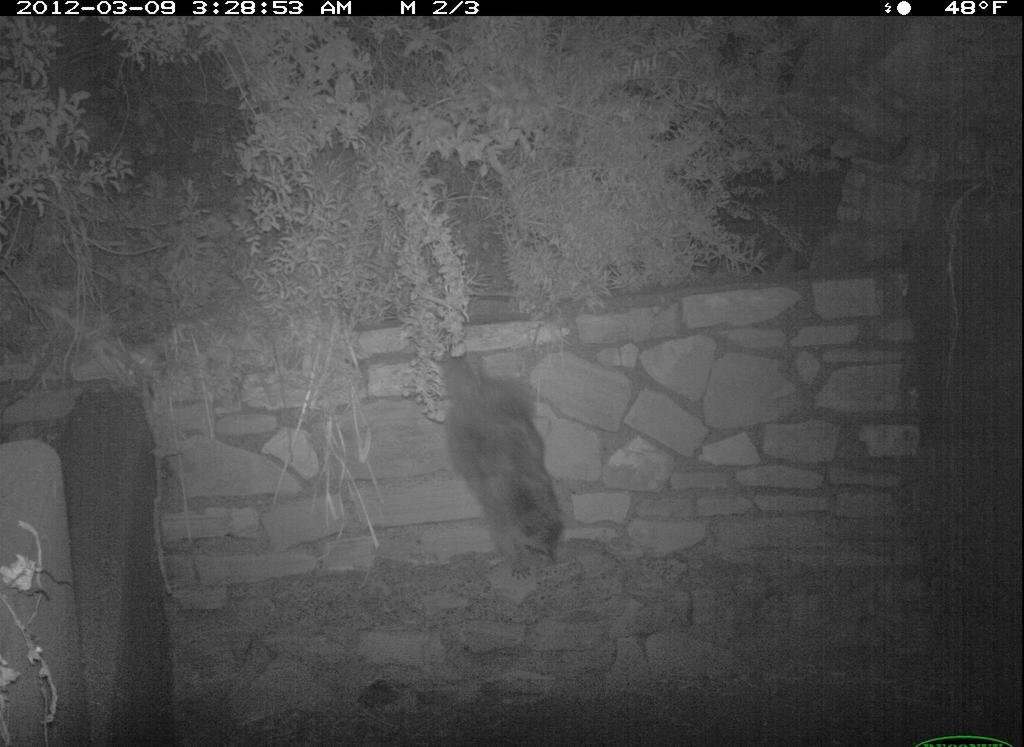raccoon: (438, 349, 580, 577)
